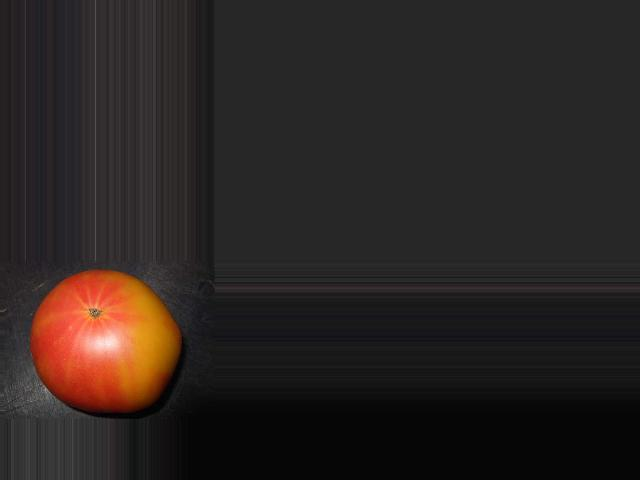tomato: (30, 270, 180, 414)
